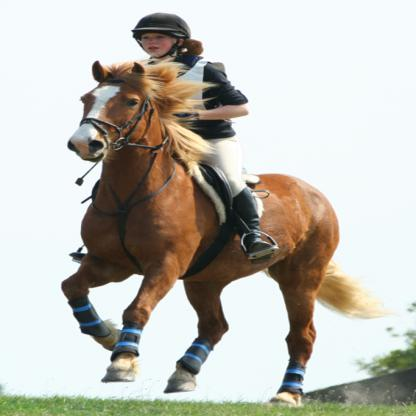Helmet: (127, 13, 194, 56)
